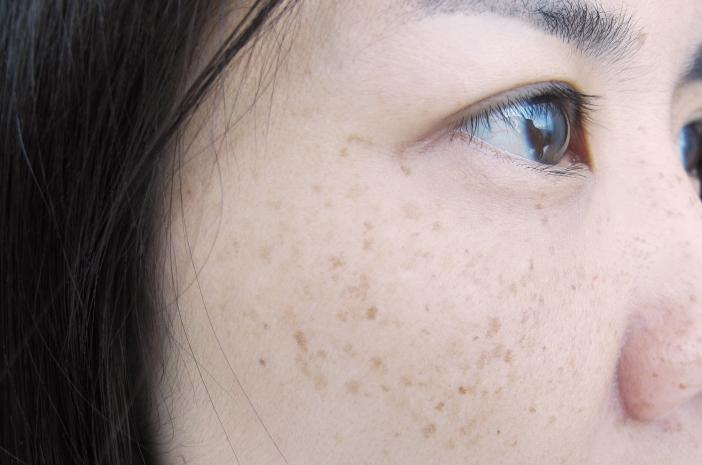Dark-Spots: (205, 119, 702, 465)
